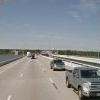Car: (46, 53, 69, 78)
